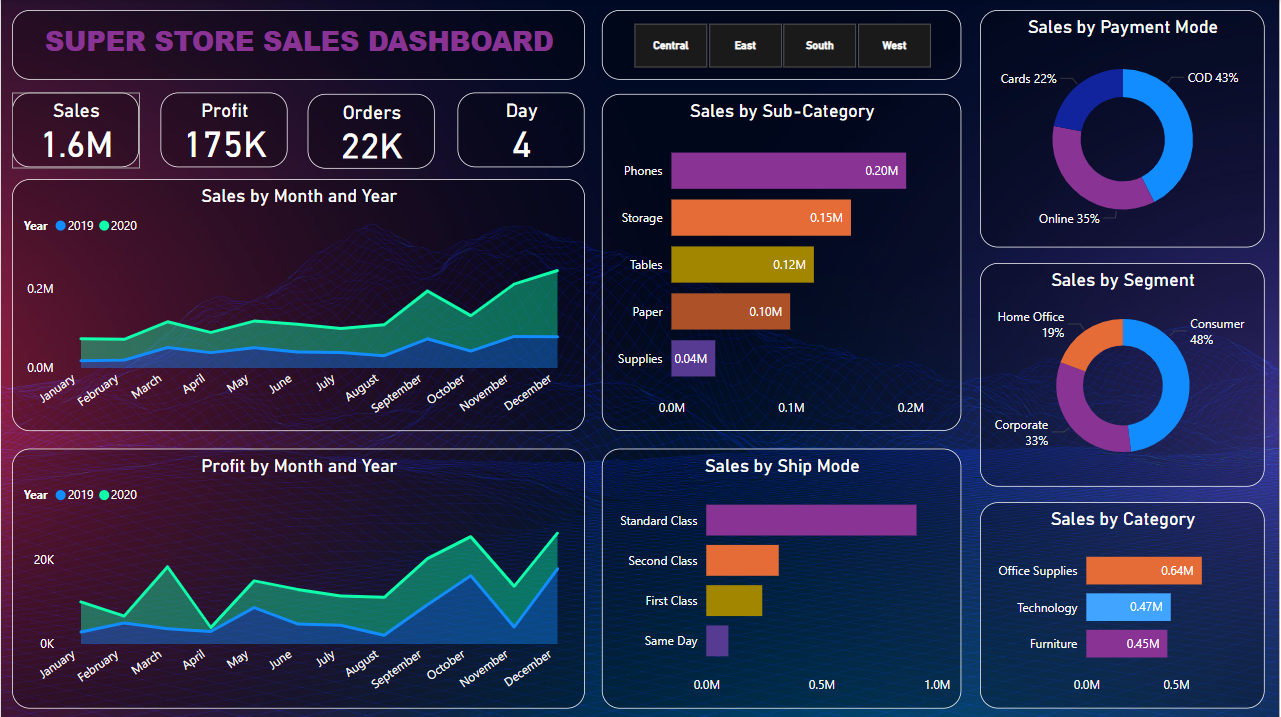

The page's visual inventory and layout, read from the dashboard file:
{"tool":"powerbi","page":{"name":"Page 1","canvas":[1280,720],"ordinal":0},"visuals":[{"type":"barChart","title":"Sales by Category","fields":{"Category":["SuperStore_Sales_Dataset.Category"],"Y":["Sum(SuperStore_Sales_Dataset.Sales)"]},"box":[980,503.8,285,206.2],"z":0},{"type":"barChart","title":"Sales by Sub-Category","fields":{"Y":["Sum(SuperStore_Sales_Dataset.Sales)"],"Category":["SuperStore_Sales_Dataset.Sub-Category"]},"box":[602.5,95,360,337.5],"z":1000},{"type":"barChart","title":"Sales by Ship Mode","fields":{"Category":["SuperStore_Sales_Dataset.Ship Mode"],"Y":["Sum(SuperStore_Sales_Dataset.Sales)"]},"box":[602.5,450,360,260],"z":2000},{"type":"stackedAreaChart","title":"Sales by Month and Year","fields":{"Y":["Sum(SuperStore_Sales_Dataset.Sales)"],"Category":["SuperStore_Sales_Dataset.Order Date.Variation.Date Hierarchy.Month","SuperStore_Sales_Dataset.Order Date.Variation.Date Hierarchy.Day"],"Series":["SuperStore_Sales_Dataset.Order Date.Variation.Date Hierarchy.Year"]},"box":[11.2,180,573.8,252.5],"z":3000},{"type":"stackedAreaChart","title":"Profit by Month and Year","fields":{"Category":["SuperStore_Sales_Dataset.Order Date.Variation.Date Hierarchy.Month","SuperStore_Sales_Dataset.Order Date.Variation.Date Hierarchy.Day"],"Series":["SuperStore_Sales_Dataset.Order Date.Variation.Date Hierarchy.Year"],"Y":["Sum(SuperStore_Sales_Dataset.Profit)"]},"box":[11.2,450,573.8,260],"z":4000},{"type":"donutChart","title":"Sales by Segment","fields":{"Y":["Sum(SuperStore_Sales_Dataset.Sales)"],"Category":["SuperStore_Sales_Dataset.Segment"]},"box":[980,263.8,285,223.8],"z":5000},{"type":"donutChart","title":"Sales by Payment Mode","fields":{"Y":["Sum(SuperStore_Sales_Dataset.Sales)"],"Category":["SuperStore_Sales_Dataset.Payment Mode"]},"box":[980,11.2,285,237.5],"z":6000},{"type":"slicer","fields":{"Values":["SuperStore_Sales_Dataset.Region"]},"box":[602.5,11.2,360,70],"z":7000},{"type":"textbox","box":[11.2,11.2,573.8,70],"z":8000},{"type":"card","title":"Profit","fields":{"Values":["Sum(SuperStore_Sales_Dataset.Profit)"]},"box":[160,93.8,127.5,75],"z":9000},{"type":"card","title":"Sales","fields":{"Values":["Sum(SuperStore_Sales_Dataset.Sales)"]},"box":[11.2,93.8,127.5,75],"z":10000},{"type":"card","title":"Orders","fields":{"Values":["Sum(SuperStore_Sales_Dataset.Quantity)"]},"box":[307.5,95,127.5,75],"z":11000},{"type":"card","title":"Day","fields":{"Values":["Avg(SuperStore_Sales_Dataset.AvgdeliveryDay)"]},"box":[457.5,93.8,127.5,75],"z":12000}]}

Visuals, with their boxes in screenshot pixels (x1, y1, x2, y2), scaled from the page's 1280x720 canvas onto the 1281x717 screenshot:
"Sales by Category" barChart: left=981, top=502, right=1266, bottom=707
"Sales by Sub-Category" barChart: left=603, top=95, right=963, bottom=431
"Sales by Ship Mode" barChart: left=603, top=448, right=963, bottom=707
"Sales by Month and Year" stackedAreaChart: left=11, top=179, right=585, bottom=431
"Profit by Month and Year" stackedAreaChart: left=11, top=448, right=585, bottom=707
"Sales by Segment" donutChart: left=981, top=263, right=1266, bottom=486
"Sales by Payment Mode" donutChart: left=981, top=11, right=1266, bottom=248
slicer - SuperStore_Sales_Dataset.Region: left=603, top=11, right=963, bottom=81
textbox: left=11, top=11, right=585, bottom=81
"Profit" card: left=160, top=93, right=288, bottom=168
"Sales" card: left=11, top=93, right=139, bottom=168
"Orders" card: left=308, top=95, right=435, bottom=169
"Day" card: left=458, top=93, right=585, bottom=168
